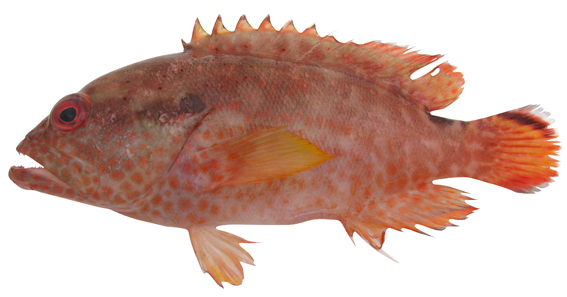fish: (9, 15, 561, 287)
